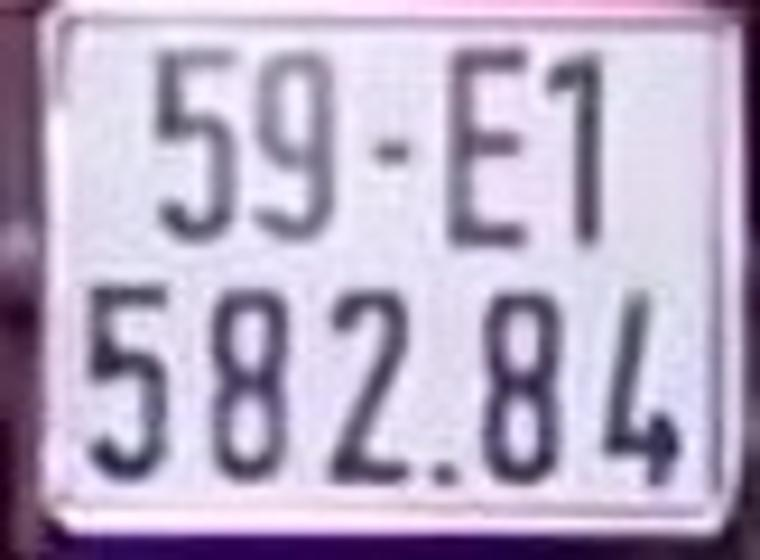-: (370, 140, 414, 168)
.: (427, 459, 460, 488)
1: (544, 55, 609, 254)
2: (321, 290, 416, 489)
4: (599, 287, 685, 491)
5: (86, 282, 174, 488), (154, 46, 245, 244)
8: (478, 284, 564, 487), (207, 284, 294, 480)
9: (248, 50, 340, 245)
E: (440, 51, 535, 252)
